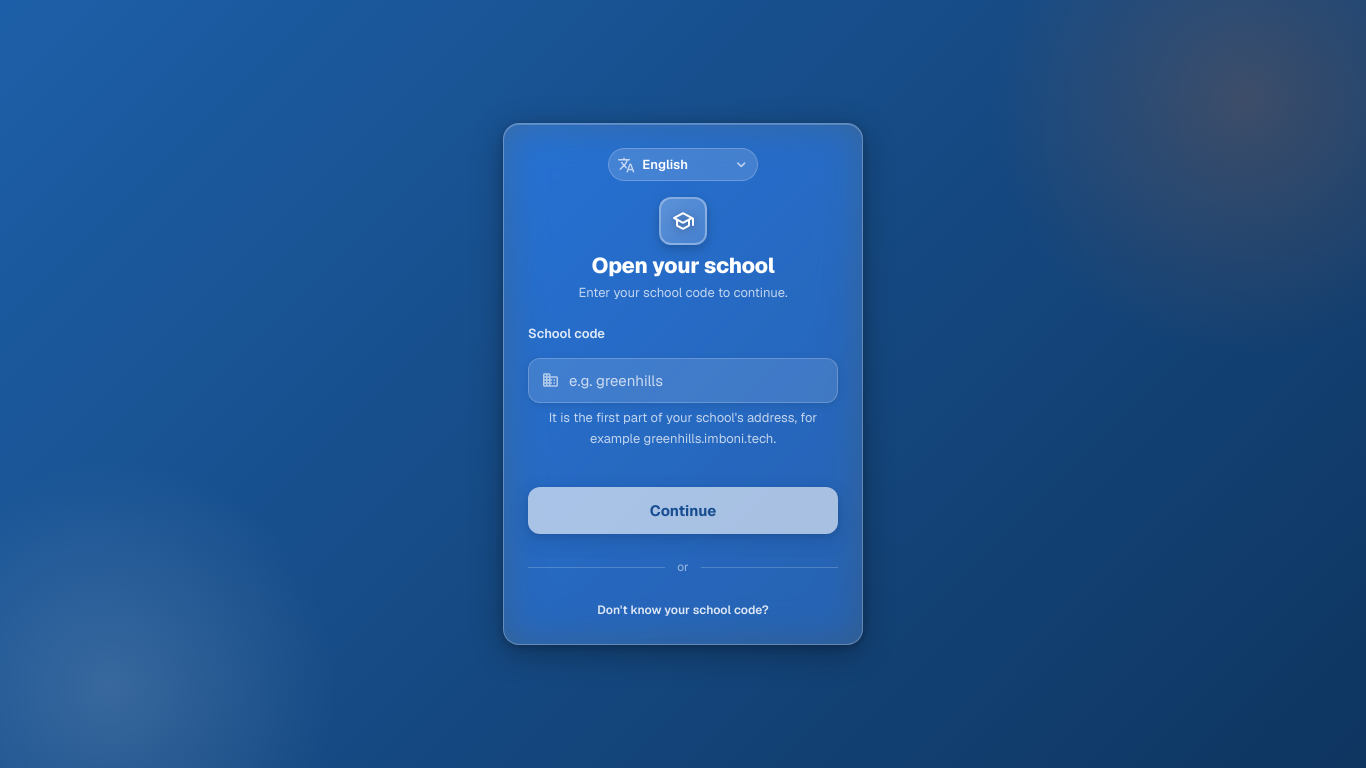
Test: Start (the installed app's first screen) › with no school remembered › lets the person try again after a failure
The width and height of the screenshot is (1366, 768).
In the field labelled "School code": (683,380) [528,358,838,403], type "typo"
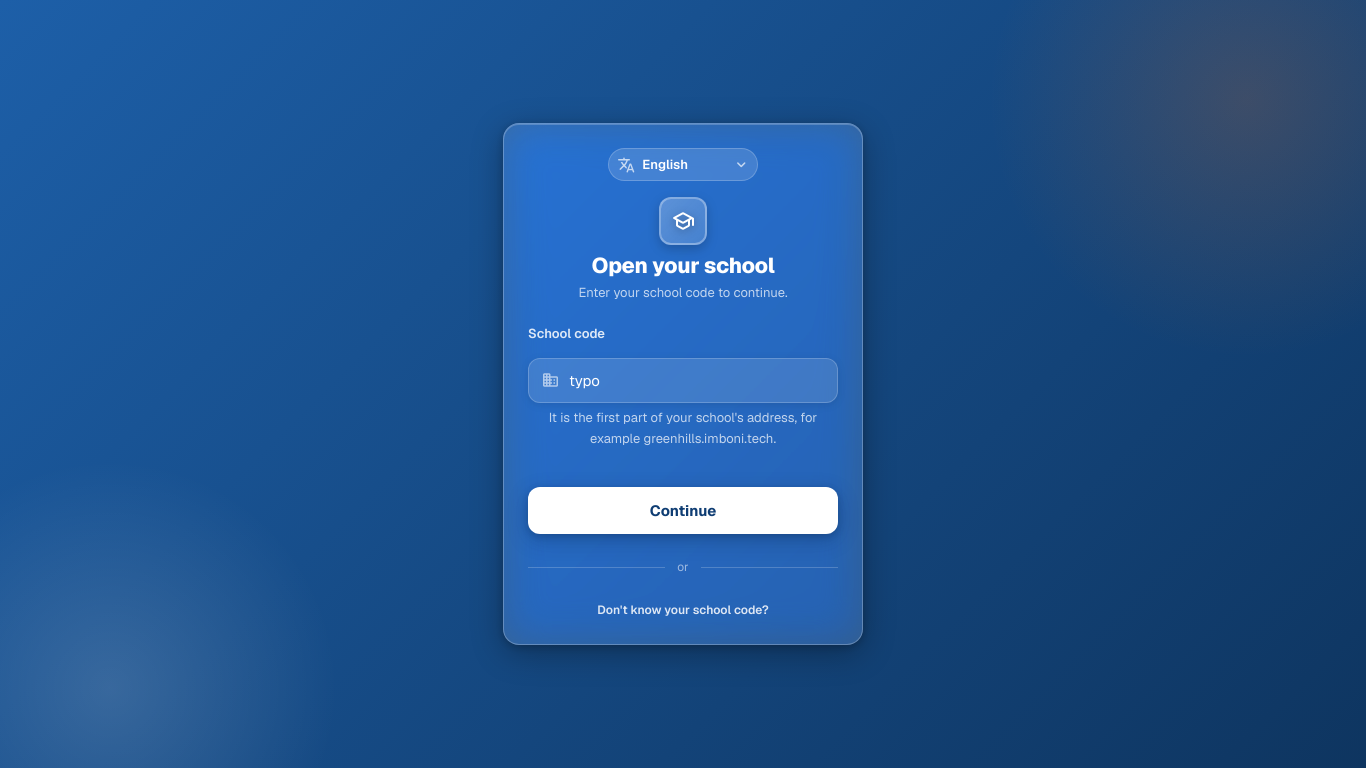
Click the button "Continue": (683,510) [528,487,838,534]
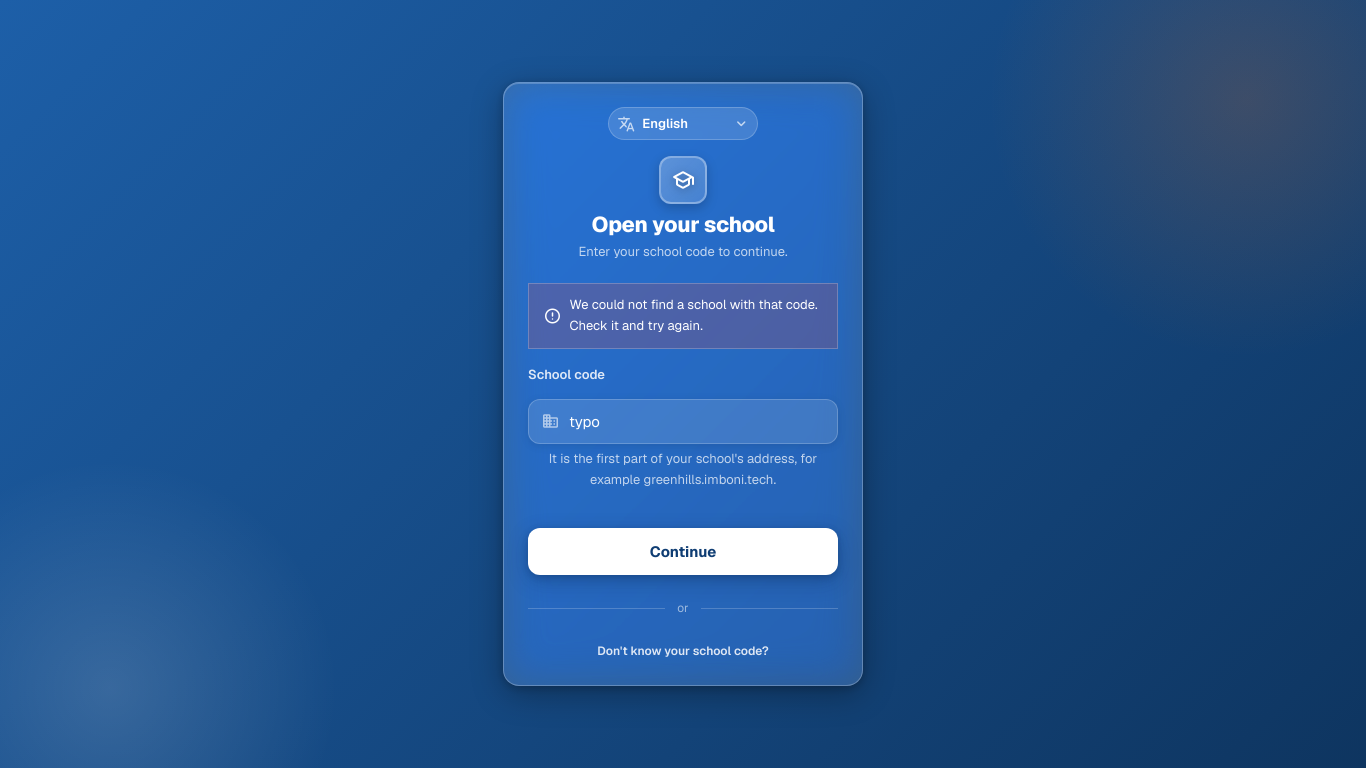
expect the field labelled "School code" is enabled: met, box [528,399,838,444]
expect the button "Continue" is enabled: met, box [528,528,838,575]
expect the message "We could not find a school with that code. Check it and try again." is shown: met, box [528,283,838,349]
